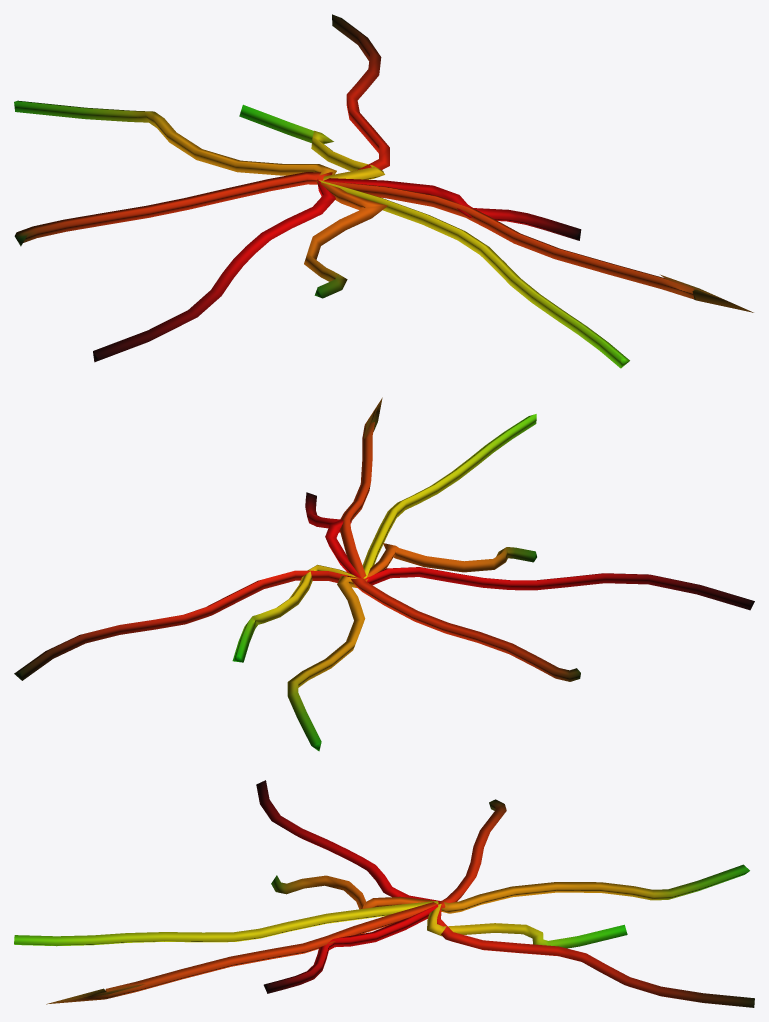
File: Alien06.fbx
3 renders of one model, top to bottom at view 1: azimuth 30°, elevation 25°; view 2: azimuth 150°, elevation 25°; view 3: azimuth 270°, elevation 25°, orthographic. The views are drawn at different scales.
Visible parts, largest first — view 1: transform5; view 2: transform5; view 3: transform5.
Boxes of the visible parts, <box> form: transform5: <box>14,14,753,368</box>; transform5: <box>14,397,754,751</box>; transform5: <box>14,780,754,1007</box>.
Bounding box in the file's own units: 292 × 18.85 × 406.
